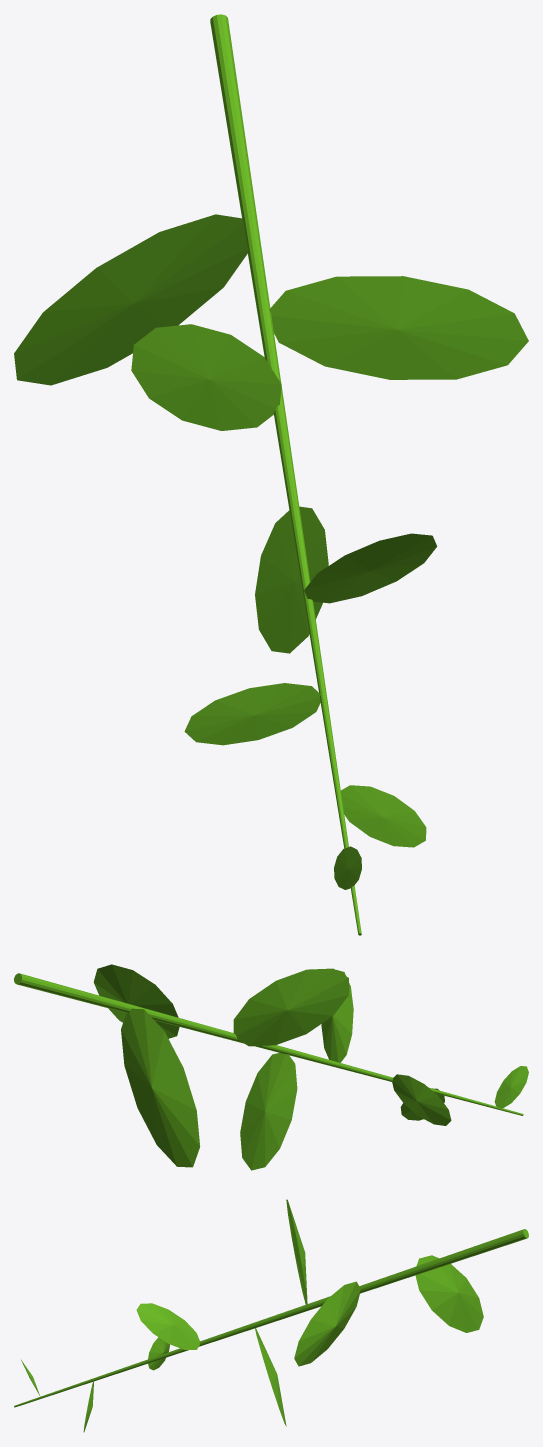
The picture shows the model from 3 angles, top to bottom: view 1: azimuth 30°, elevation 25°; view 2: azimuth 150°, elevation 25°; view 3: azimuth 270°, elevation 25°; orthographic projection. The views are drawn at different scales.
Bounding box in the file's own units: 0.1785 × 0.1832 × 0.3221.
